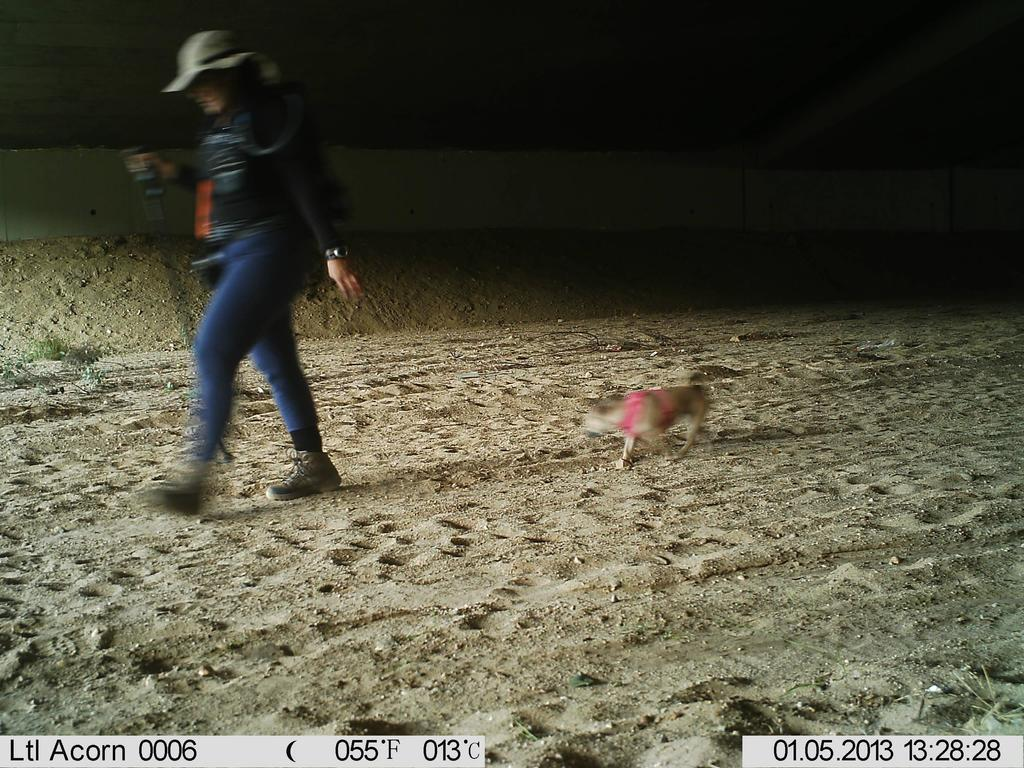dog: (567, 360, 729, 487)
